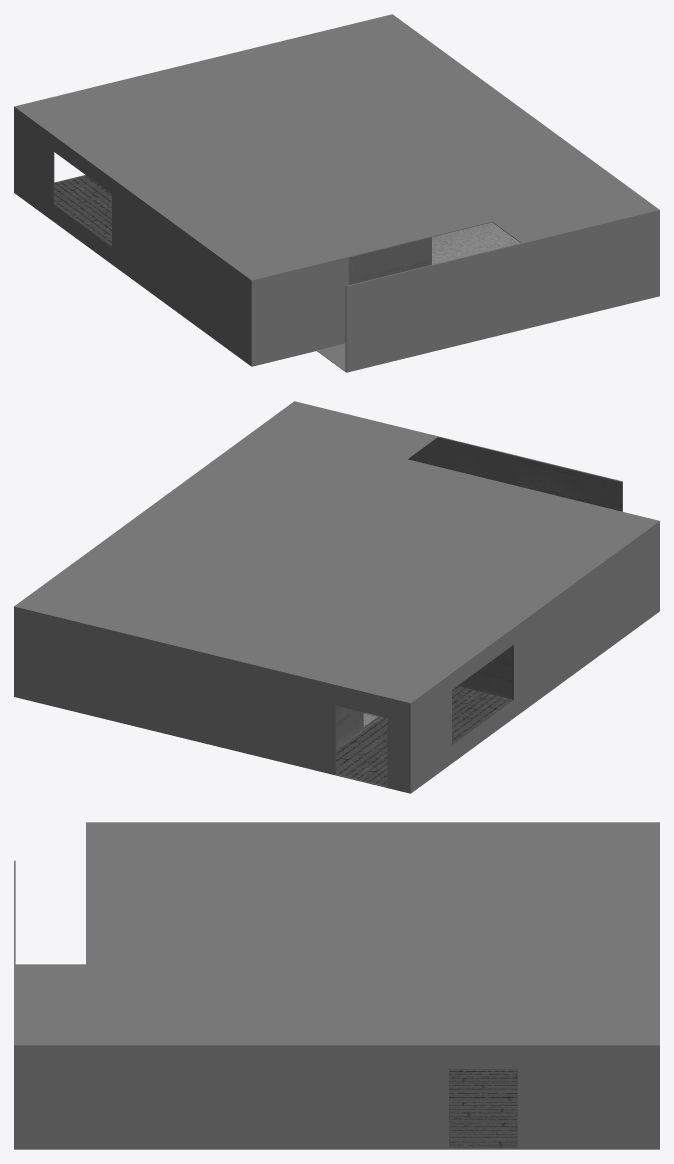
The model's file is Downstairs.fbx.
3 renders of one model, top to bottom at view 1: azimuth 30°, elevation 25°; view 2: azimuth 150°, elevation 25°; view 3: azimuth 270°, elevation 25°, orthographic. The views are drawn at different scales.
Visible parts, largest first — view 1: Downstairs; view 2: Downstairs; view 3: Downstairs.
Boxes of the visible parts, <box> form: Downstairs: <box>14,14,659,372</box>; Downstairs: <box>14,401,659,793</box>; Downstairs: <box>14,822,659,1149</box>.
Size of the model in its own units: 2336 by 509 by 2860.
Materials: 1 (1 with a texture image).
